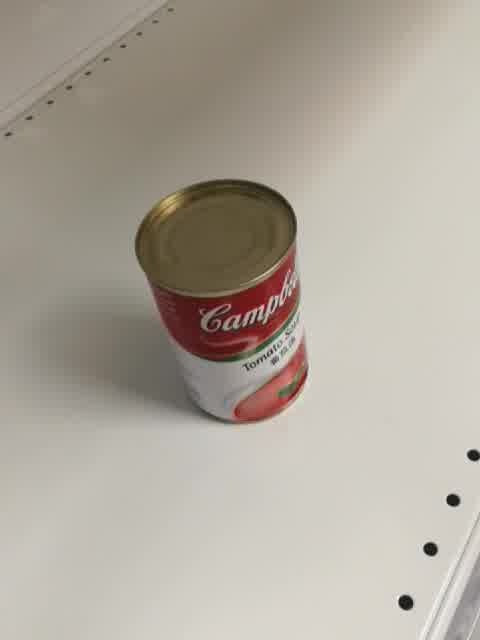tomatosoup: (132, 177, 310, 425)
